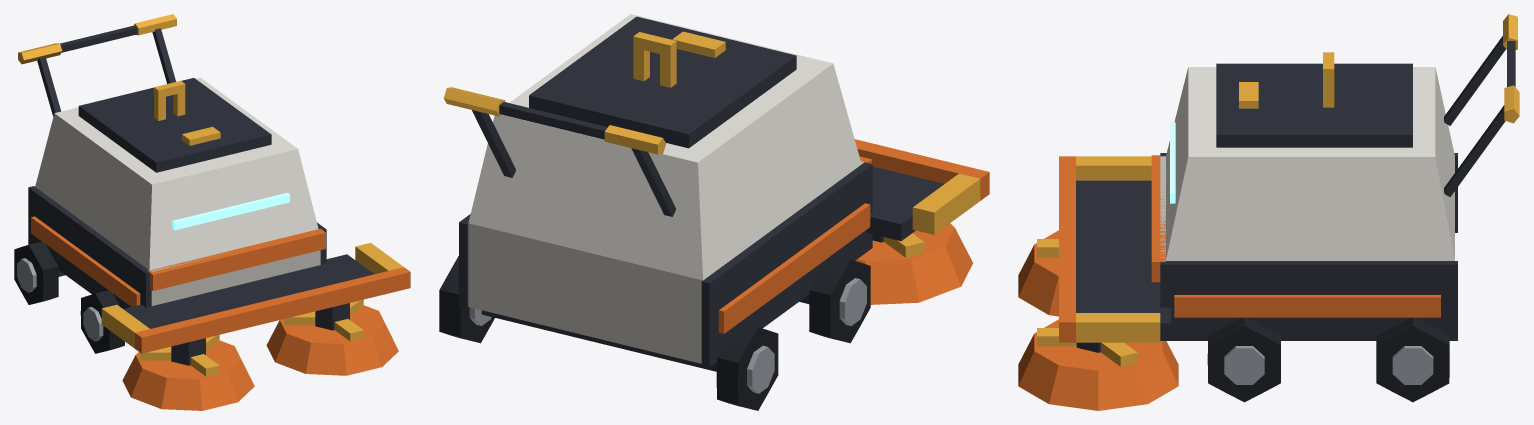
Rendered from vozidlo-push.glb.
The picture shows the model from 3 angles, left to right: view 1: azimuth 30°, elevation 25°; view 2: azimuth 150°, elevation 25°; view 3: azimuth 270°, elevation 25°; orthographic projection. The views are drawn at different scales.
Visible parts, largest first — view 1: karoserie, kartac_2, kartac_1, kolo_3, kolo_1; view 2: karoserie, kartac_1, kolo_3, kolo_1, kolo_4; view 3: karoserie, kartac_2, kolo_4, kolo_2, kartac_1.
Part boxes in pixels (x1,y1,x2,y2): karoserie: [18, 14, 410, 353]; kartac_2: [266, 299, 398, 375]; kartac_1: [122, 335, 254, 410]; kolo_3: [14, 241, 58, 304]; kolo_1: [80, 290, 124, 353]; karoserie: [443, 14, 989, 371]; kartac_1: [855, 223, 972, 304]; kolo_3: [716, 322, 778, 410]; kolo_1: [809, 255, 870, 343]; kolo_4: [439, 256, 494, 343]; karoserie: [1059, 14, 1519, 342]; kartac_2: [1018, 319, 1178, 410]; kolo_4: [1376, 317, 1449, 402]; kolo_2: [1207, 317, 1280, 402]; kartac_1: [1018, 230, 1058, 316].
Bounding box in the file's own units: 1.4 × 1.08 × 1.79.
